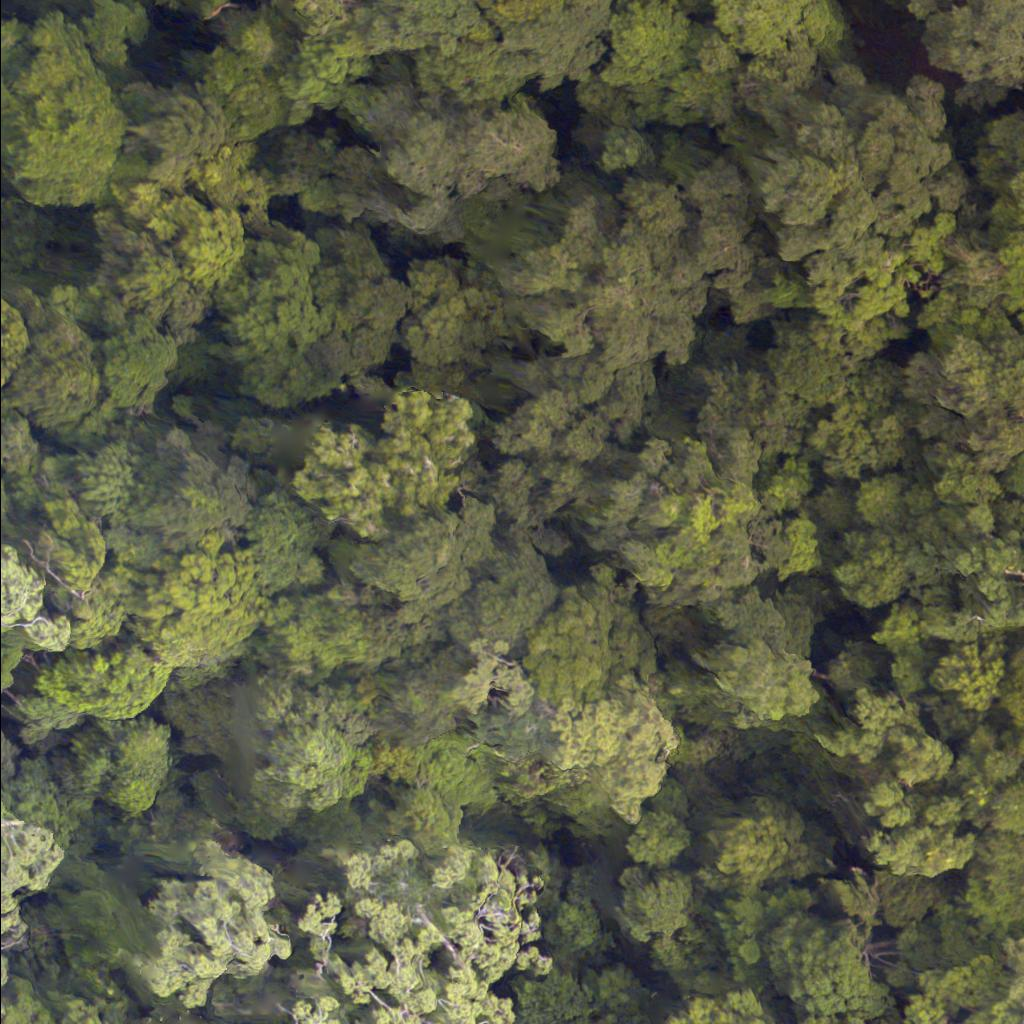crown: (148, 841, 540, 1023), (540, 677, 689, 825), (0, 780, 79, 963), (761, 914, 880, 1023), (695, 649, 823, 738), (907, 943, 1023, 1023), (706, 809, 828, 885), (959, 834, 1023, 935), (981, 641, 1023, 760), (663, 989, 776, 1023), (808, 1003, 885, 1023)
